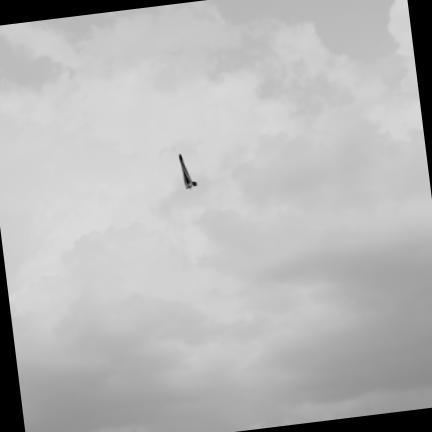Shahed: (180, 154, 196, 188)
